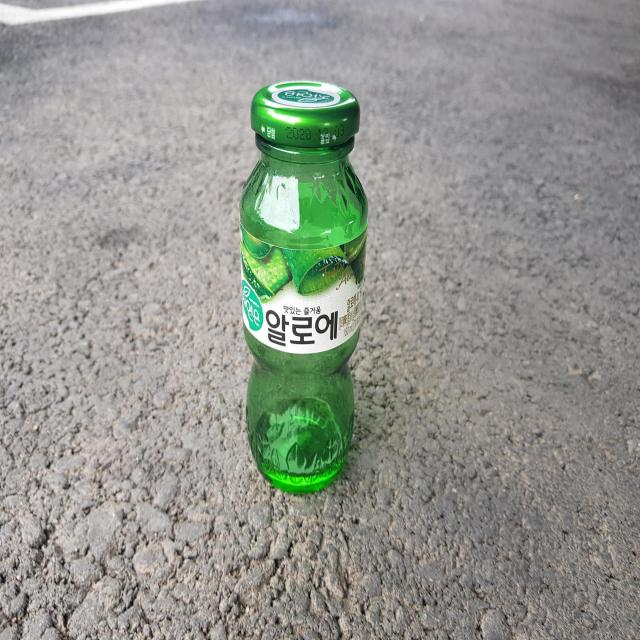glass: (240, 80, 368, 493)
